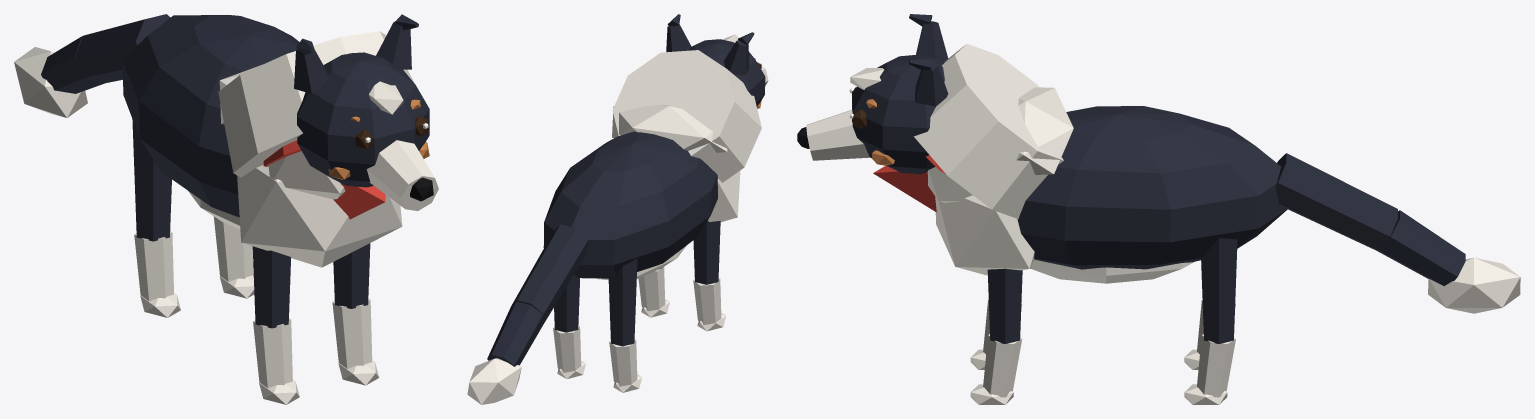
Rendered from collie.glb.
3 views of the same model, side by side, from view 1: azimuth 30°, elevation 25°; view 2: azimuth 150°, elevation 25°; view 3: azimuth 270°, elevation 25° (orthographic). The views are drawn at different scales.
Parts seen in each view (by area): view 1: body, head, tail, leg_br, leg_fr, leg_fl, leg_bl, ear_l, ear_r; view 2: body, tail, leg_br, leg_fr, leg_bl, head, leg_fl, ear_r, ear_l; view 3: body, tail, head, leg_bl, leg_fl, ear_l, ear_r.
Boxes of the visible parts, bbox=[...] form: body: bbox=[122, 15, 414, 267]; head: bbox=[297, 52, 438, 210]; tail: bbox=[14, 14, 170, 117]; leg_br: bbox=[132, 119, 180, 317]; leg_fr: bbox=[252, 246, 299, 404]; leg_fl: bbox=[332, 243, 379, 385]; leg_bl: bbox=[213, 216, 254, 298]; ear_l: bbox=[376, 14, 418, 69]; ear_r: bbox=[294, 38, 329, 93]; body: bbox=[543, 50, 761, 280]; tail: bbox=[467, 224, 588, 404]; leg_br: bbox=[608, 258, 642, 392]; leg_fr: bbox=[693, 220, 725, 331]; leg_bl: bbox=[553, 275, 585, 378]; head: bbox=[689, 34, 768, 108]; leg_fl: bbox=[638, 267, 669, 317]; ear_r: bbox=[724, 32, 754, 75]; ear_l: bbox=[666, 14, 691, 52]; body: bbox=[873, 44, 1287, 283]; tail: bbox=[1275, 153, 1520, 313]; head: bbox=[797, 54, 944, 174]; leg_bl: bbox=[1184, 238, 1237, 404]; leg_fl: bbox=[970, 268, 1022, 404]; ear_l: bbox=[909, 59, 948, 106]; ear_r: bbox=[909, 14, 948, 61].
Size of the model in its own units: 0.4755 by 1.03 by 1.93.
